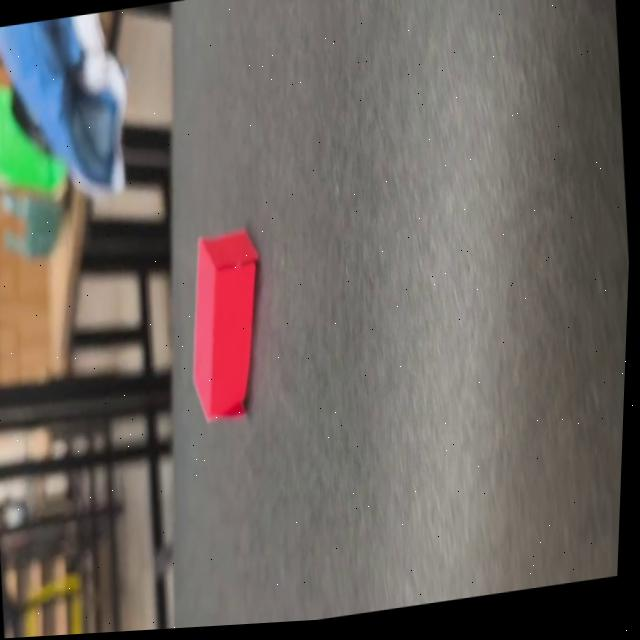red block: (176, 224, 273, 427)
